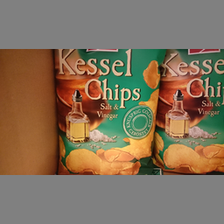chips: (54, 50, 159, 178), (156, 49, 224, 174)
